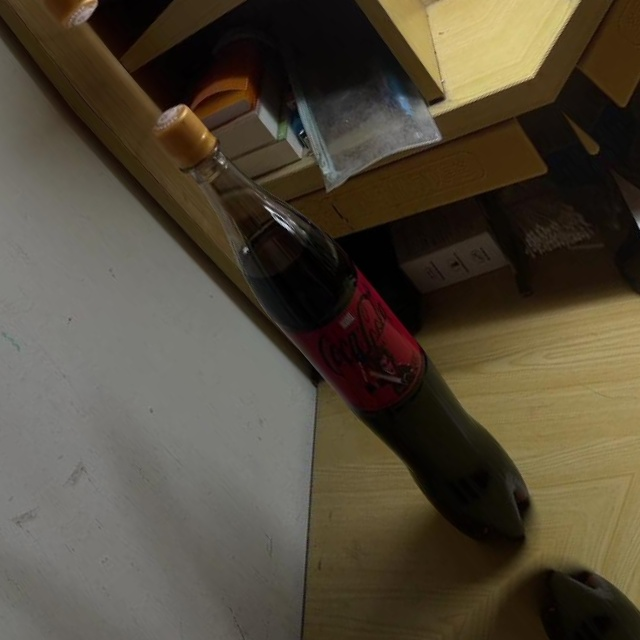Coca-Cola: (127, 83, 562, 575)
